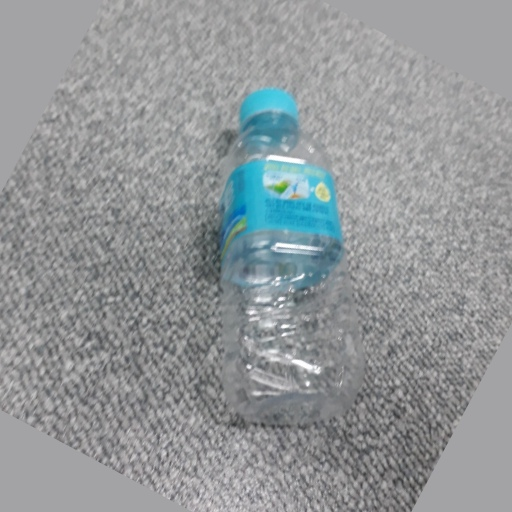Plastic_0: (217, 86, 364, 432)
